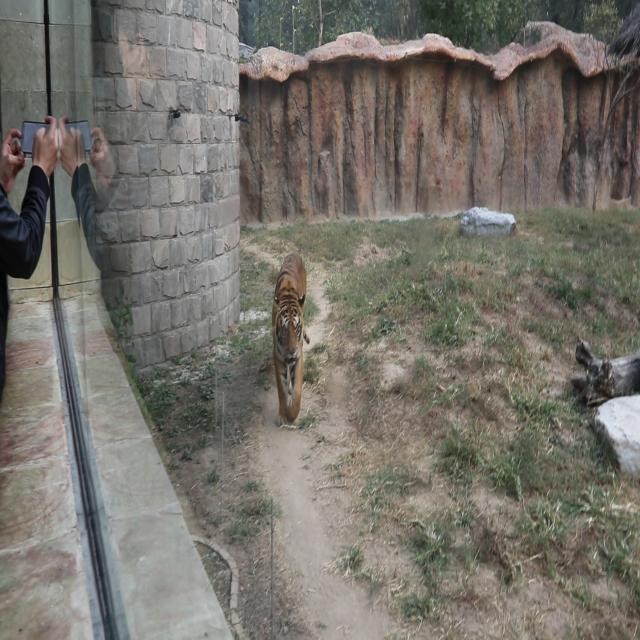Tiger: (258, 251, 312, 449)
